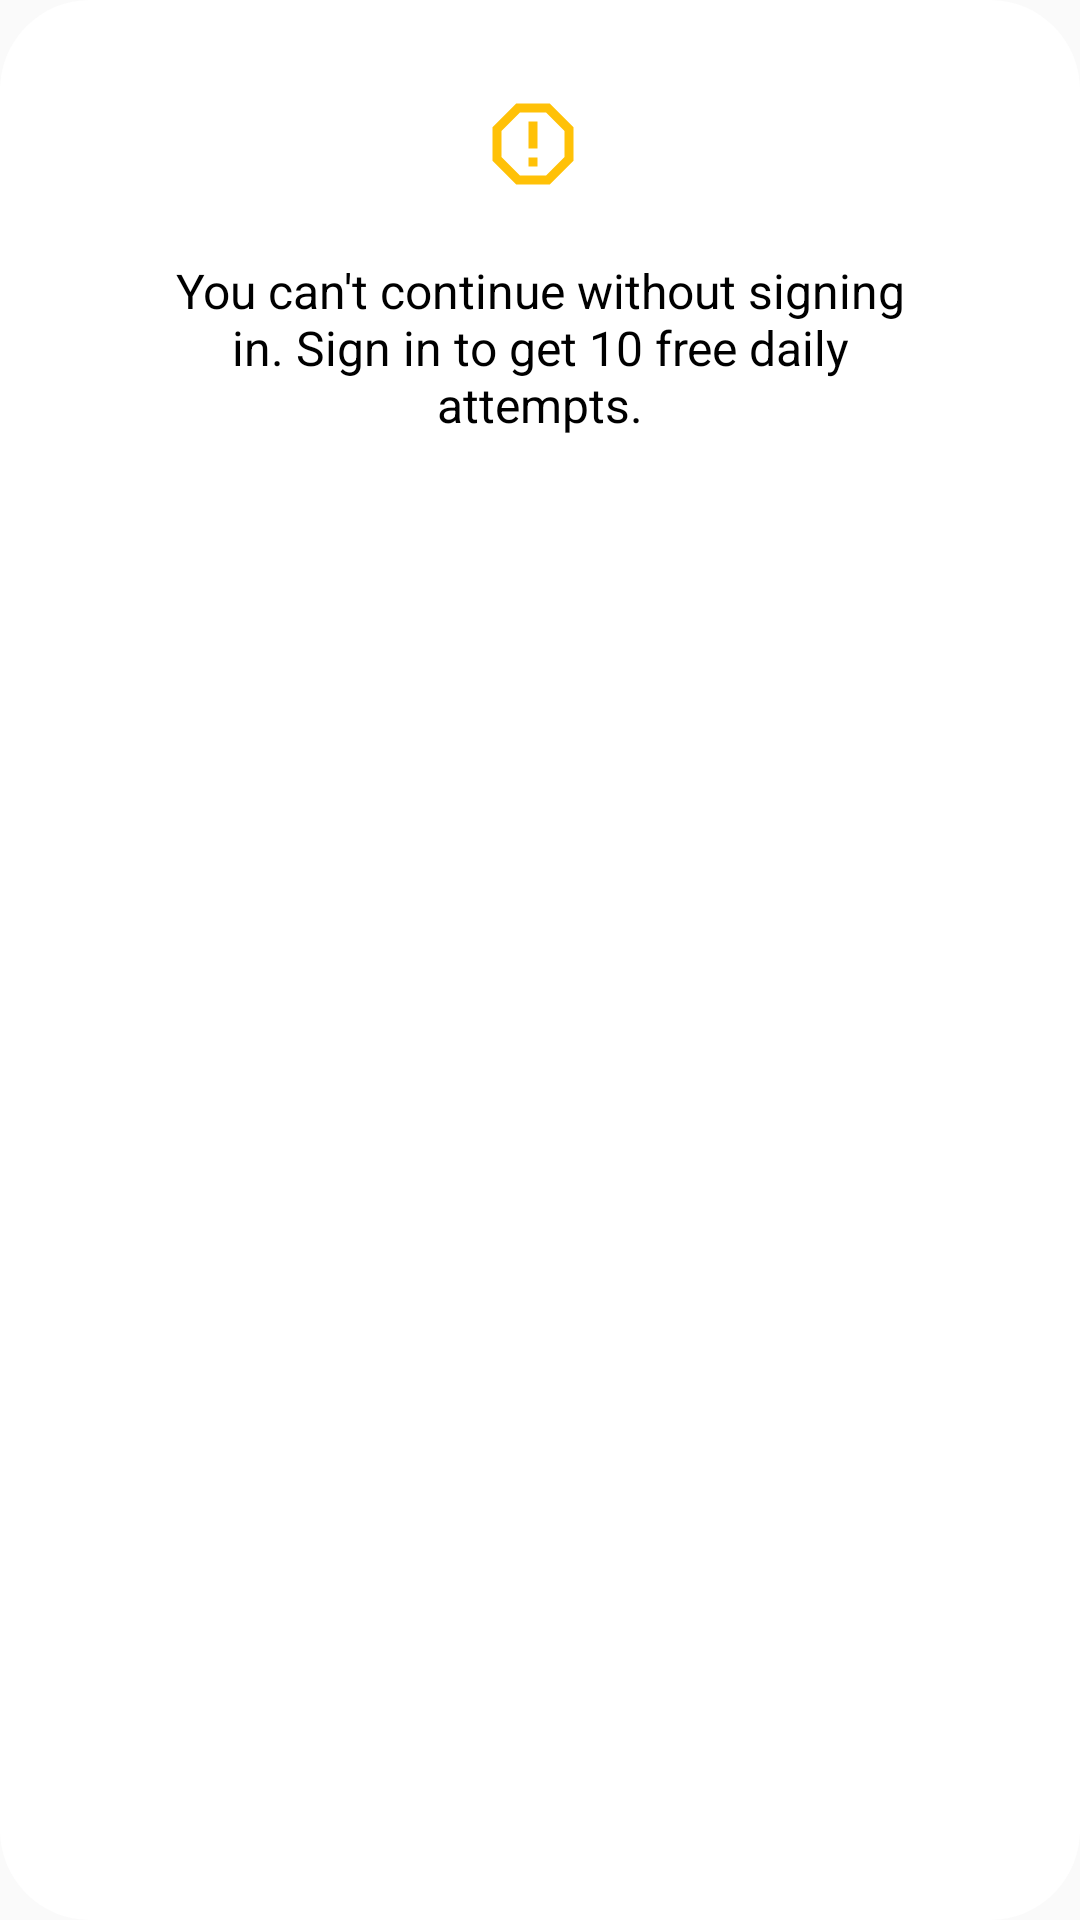

Icon click points for this 1080 × 1920 phone screenshot, format [x,y]:
exclamation: [533,144]
